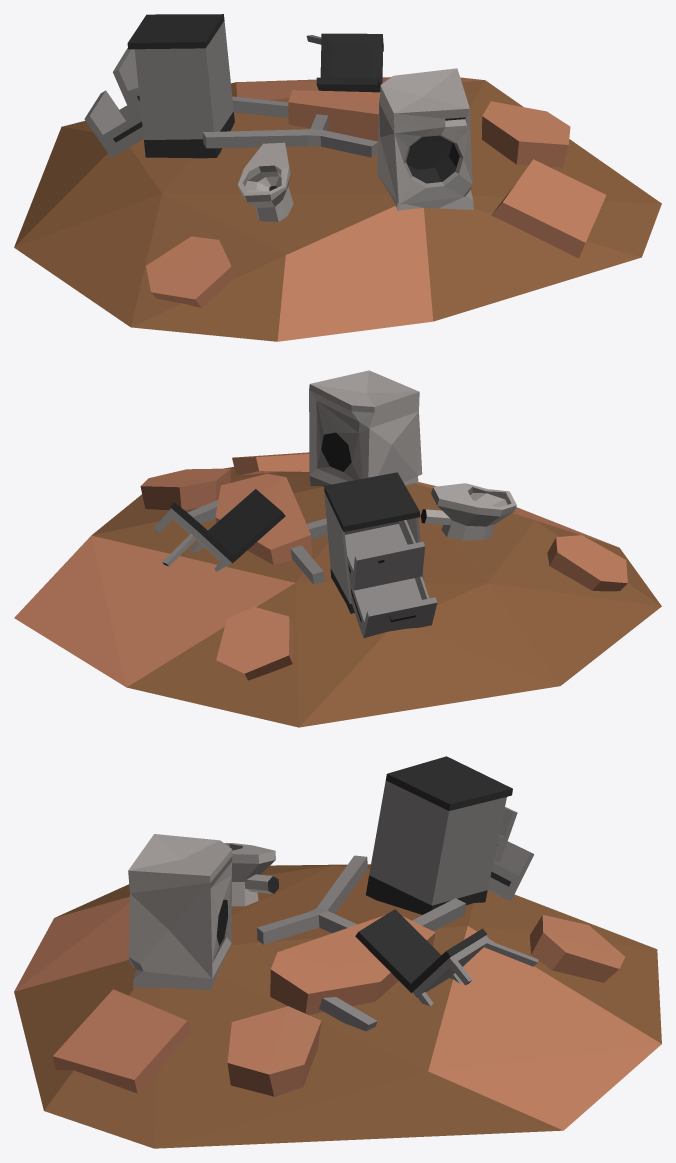
The model's file is apocalypse_rubble-apocalypse-f.fbx.
3 views of the same model, one above another, from view 1: azimuth 30°, elevation 25°; view 2: azimuth 150°, elevation 25°; view 3: azimuth 270°, elevation 25° (orthographic). The views are drawn at different scales.
Parts seen in each view (by area): view 1: apocalypse_rubble_apocalypse_f; view 2: apocalypse_rubble_apocalypse_f; view 3: apocalypse_rubble_apocalypse_f.
Part boxes in pixels (x1,y1,x2,y2): apocalypse_rubble_apocalypse_f: (14,14,661,341); apocalypse_rubble_apocalypse_f: (14,370,661,727); apocalypse_rubble_apocalypse_f: (14,756,661,1148).
Size of the model in its own units: 200 by 61.07 by 192.
